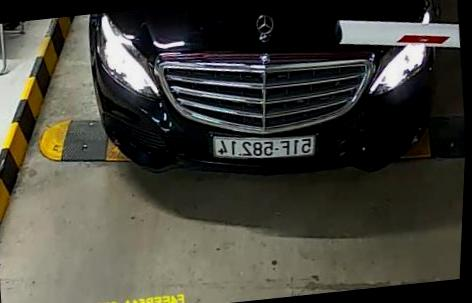License_Plate: (204, 125, 322, 168)
